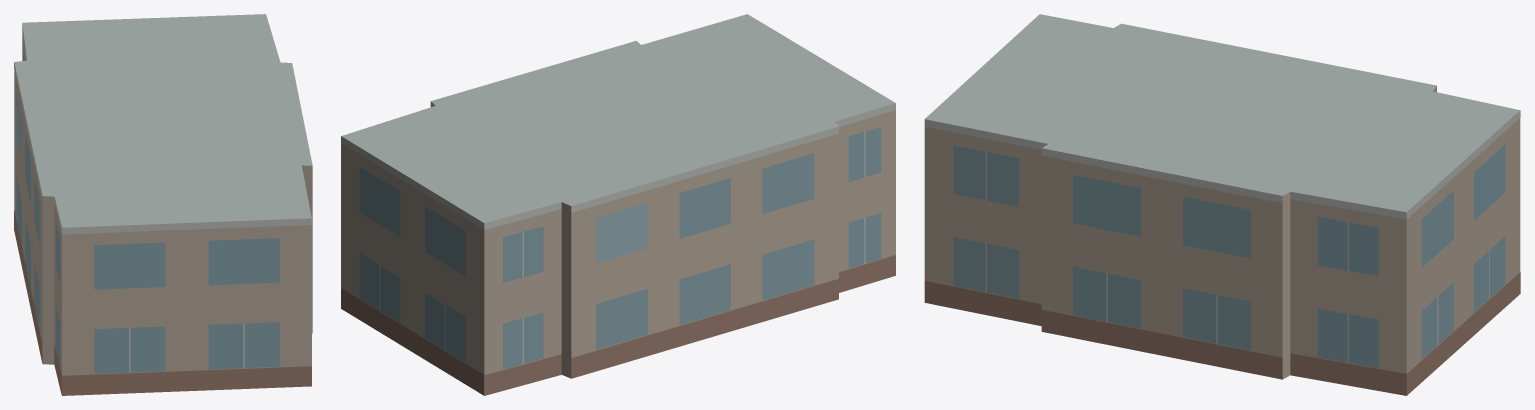
The model's file is survey-upis-32530346.glb.
3 renders of one model, left to right at view 1: azimuth 30°, elevation 25°; view 2: azimuth 150°, elevation 25°; view 3: azimuth 270°, elevation 25°, orthographic. The views are drawn at different scales.
Visible parts, largest first — view 1: survey-upis-32530346.tmp; view 2: survey-upis-32530346.tmp; view 3: survey-upis-32530346.tmp.
Boxes of the visible parts, x1,y1,x2,y2 form: survey-upis-32530346.tmp: (14,14,312,395); survey-upis-32530346.tmp: (341,14,895,395); survey-upis-32530346.tmp: (924,14,1520,395).
Bounding box in the file's own units: 14.14 × 6.1 × 17.95.
